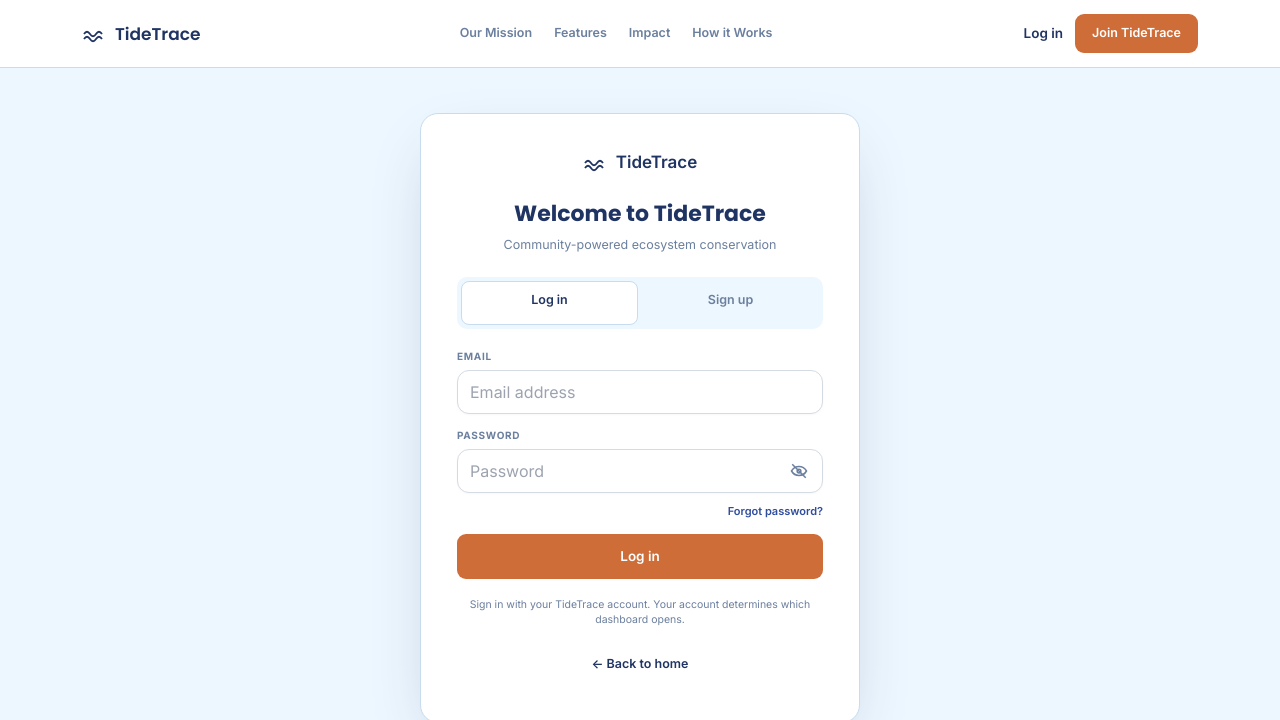
Test: backend authentication › shows inline email validation on /login and clears it after correction
The width and height of the screenshot is (1280, 720).
In the field labelled "Email": (640,392) x1=457 y1=370 x2=823 y2=414, type "saas"
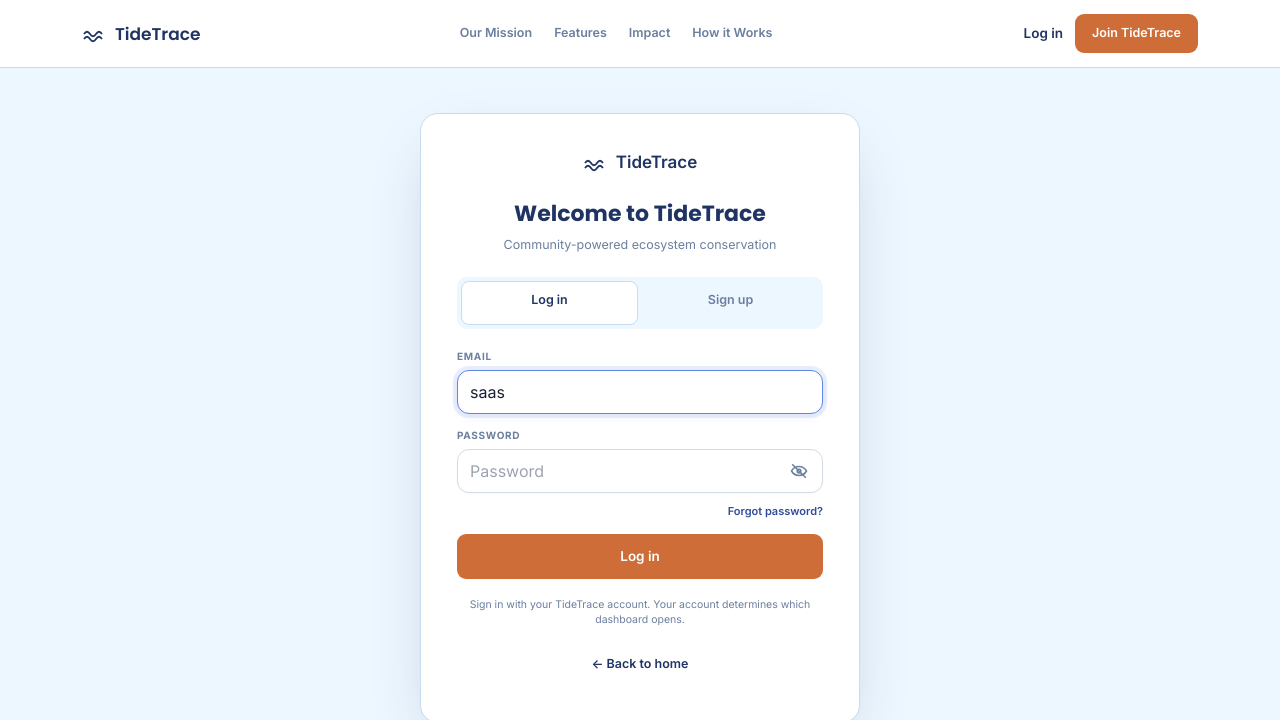
In the password field labelled "Password": (640,471) x1=457 y1=449 x2=823 y2=493, type "correct-password"
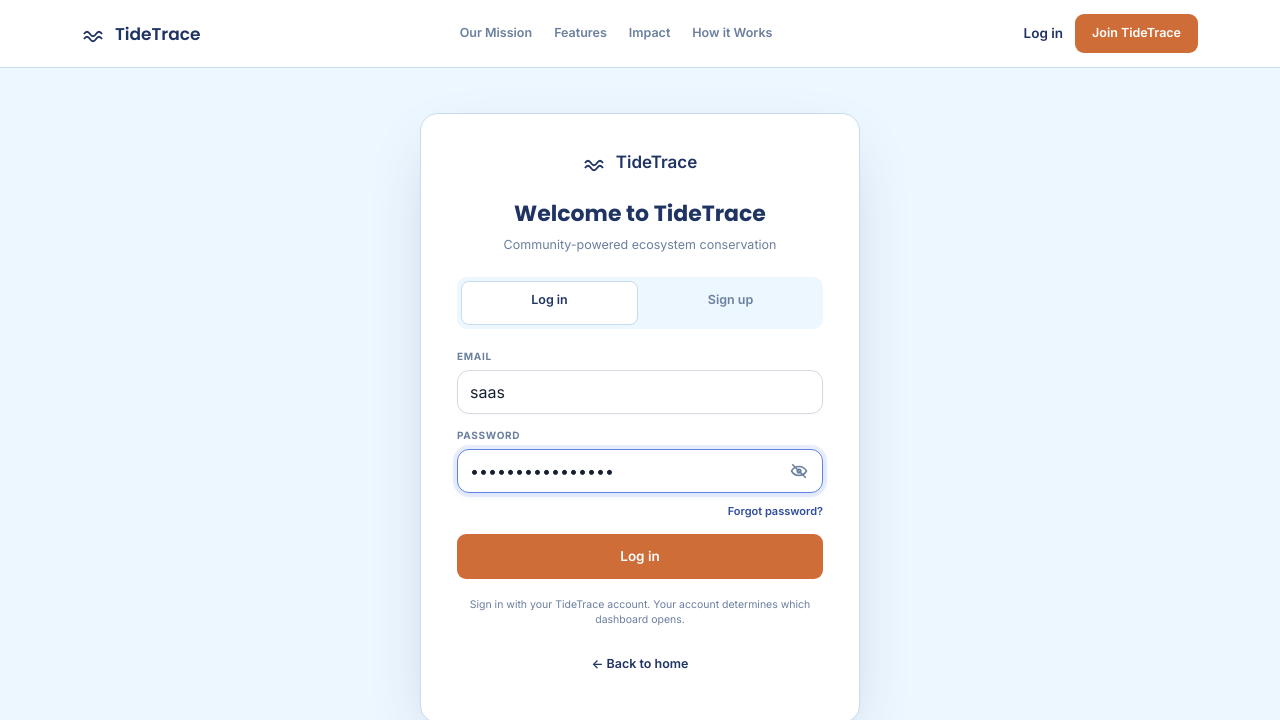
Click the button "Log in": (640,556) x1=457 y1=534 x2=823 y2=579
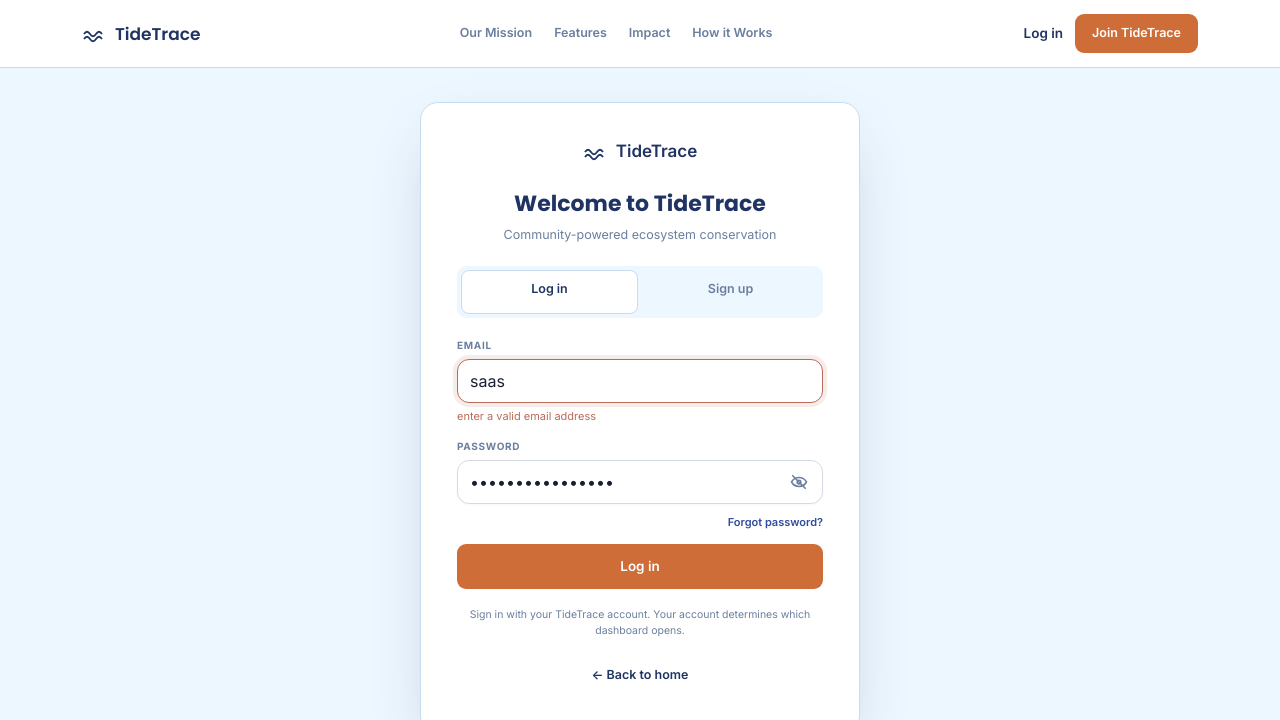
Now the message reads "enter a valid email address", box x1=457 y1=409 x2=596 y2=423
Replace the text in the field labelled "Email" with "member@example.test": (640,381) x1=457 y1=359 x2=823 y2=403
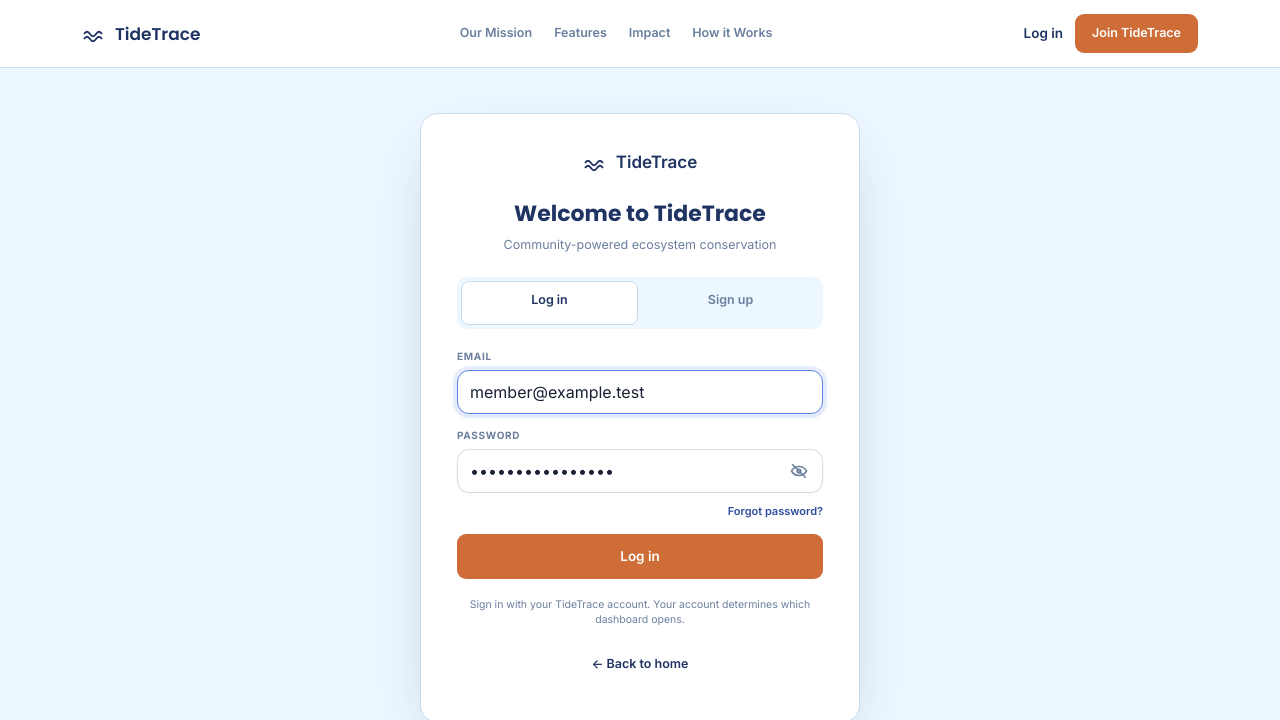
Now the message "enter a valid email address" is gone
